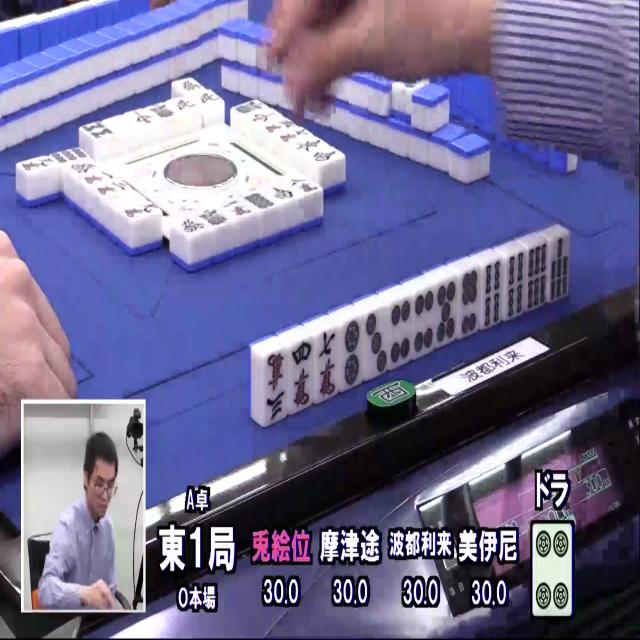2D: (338, 319, 366, 391)
3C: (260, 347, 290, 422)
3D: (360, 308, 390, 380)
4B: (479, 258, 506, 330), (504, 251, 529, 321)
4C: (289, 339, 318, 413)
4D: (532, 521, 575, 615), (386, 298, 414, 372), (411, 288, 438, 358)
5D: (434, 279, 461, 349)
6B: (523, 243, 550, 313)
6D: (456, 268, 484, 339)
7B: (547, 234, 571, 304)
7C: (314, 327, 342, 402)
